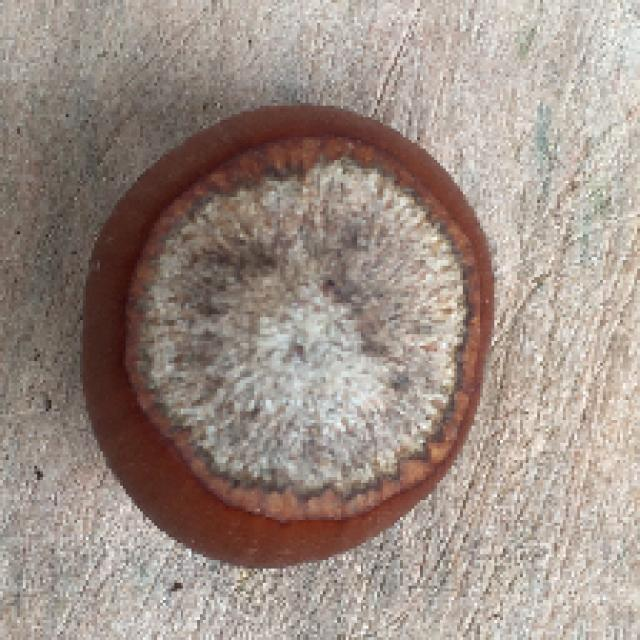qualityHazelnut: (74, 98, 497, 571)
